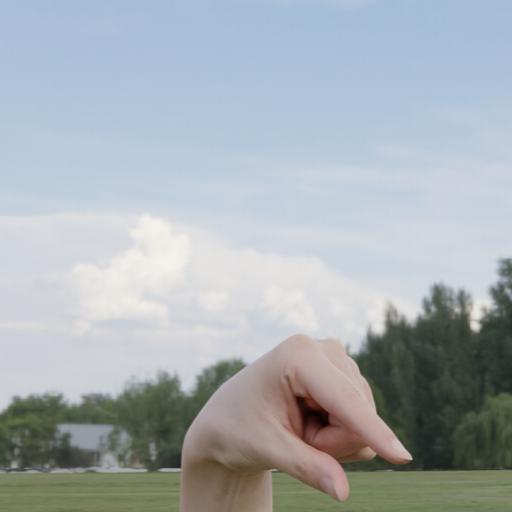Q: (179, 331, 412, 506)
